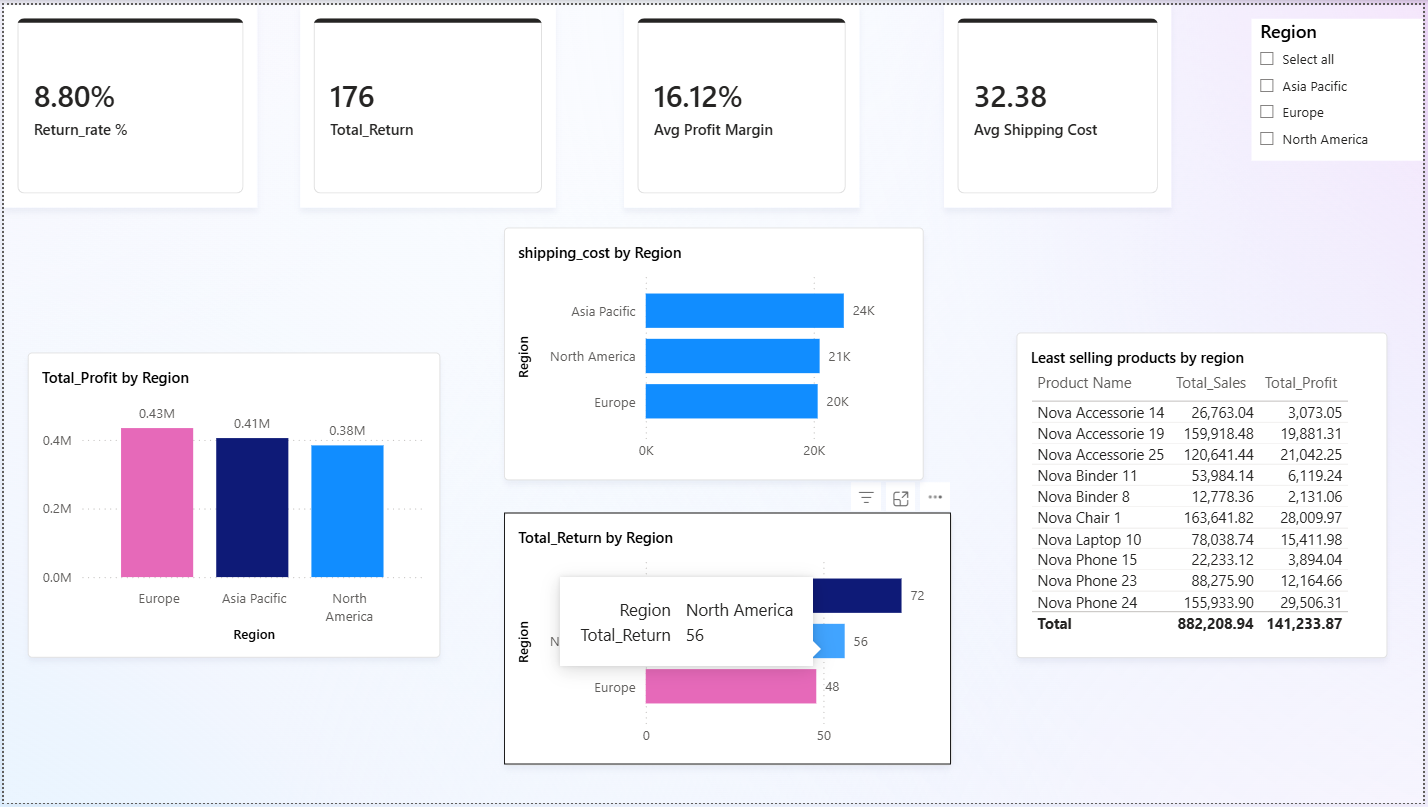

This screenshot's page, from the dashboard's own definition file:
{"tool":"powerbi","page":{"name":"Regional_Analysis","canvas":[1280,720],"ordinal":1},"visuals":[{"type":"slicer","fields":{"Values":["Fact_orders.Region"]},"box":[1124.5,12.4,155.5,128.1],"z":0},{"type":"barChart","fields":{"Category":["Fact_orders.Region"],"Y":["Fact_orders.Total_Return"]},"box":[450.3,457.8,404.3,227.6],"z":1000},{"type":"cardVisual","fields":{"Data":["Fact_orders.Return_rate %"]},"box":[0,0,228.9,182.9],"z":2000},{"type":"tableEx","title":"Least selling products by region","fields":{"Values":["Dim_Products.Product Name","Fact_orders.Total_Sales","Fact_orders.Total_Profit"]},"box":[913.1,294.8,334.6,293.6],"z":3000},{"type":"clusteredColumnChart","fields":{"Category":["Fact_orders.Region"],"Y":["Fact_orders.Total_Profit"]},"box":[21.1,313.5,371.9,274.9],"z":4000},{"type":"cardVisual","fields":{"Data":["Fact_orders.Total_Return"]},"box":[267.5,0,230.1,182.9],"z":5000},{"type":"clusteredBarChart","fields":{"Category":["Fact_orders.Region"],"Y":["Fact_orders.shipping_cost"]},"box":[450.3,200.3,378.2,227.6],"z":6000},{"type":"cardVisual","fields":{"Data":["Fact_orders.Avg Profit Margin"]},"box":[558.5,0,212.7,182.9],"z":7000},{"type":"cardVisual","fields":{"Data":["Fact_orders.Avg Shipping Cost"]},"box":[847.1,0,205.3,182.9],"z":8000}]}

Visuals, with their boxes in screenshot pixels (x1, y1, x2, y2), scaled from the page's 1280x720 canvas onto the 1428x807 screenshot:
slicer - Fact_orders.Region: [left=1255, top=14, right=1427, bottom=157]
barChart - Fact_orders.Region x Fact_orders.Total_Return: [left=502, top=513, right=953, bottom=768]
cardVisual - Fact_orders.Return_rate %: [left=0, top=0, right=255, bottom=205]
"Least selling products by region" tableEx: [left=1019, top=330, right=1392, bottom=659]
clusteredColumnChart - Fact_orders.Region x Fact_orders.Total_Profit: [left=24, top=351, right=438, bottom=659]
cardVisual - Fact_orders.Total_Return: [left=298, top=0, right=555, bottom=205]
clusteredBarChart - Fact_orders.Region x Fact_orders.shipping_cost: [left=502, top=225, right=924, bottom=480]
cardVisual - Fact_orders.Avg Profit Margin: [left=623, top=0, right=860, bottom=205]
cardVisual - Fact_orders.Avg Shipping Cost: [left=945, top=0, right=1174, bottom=205]
